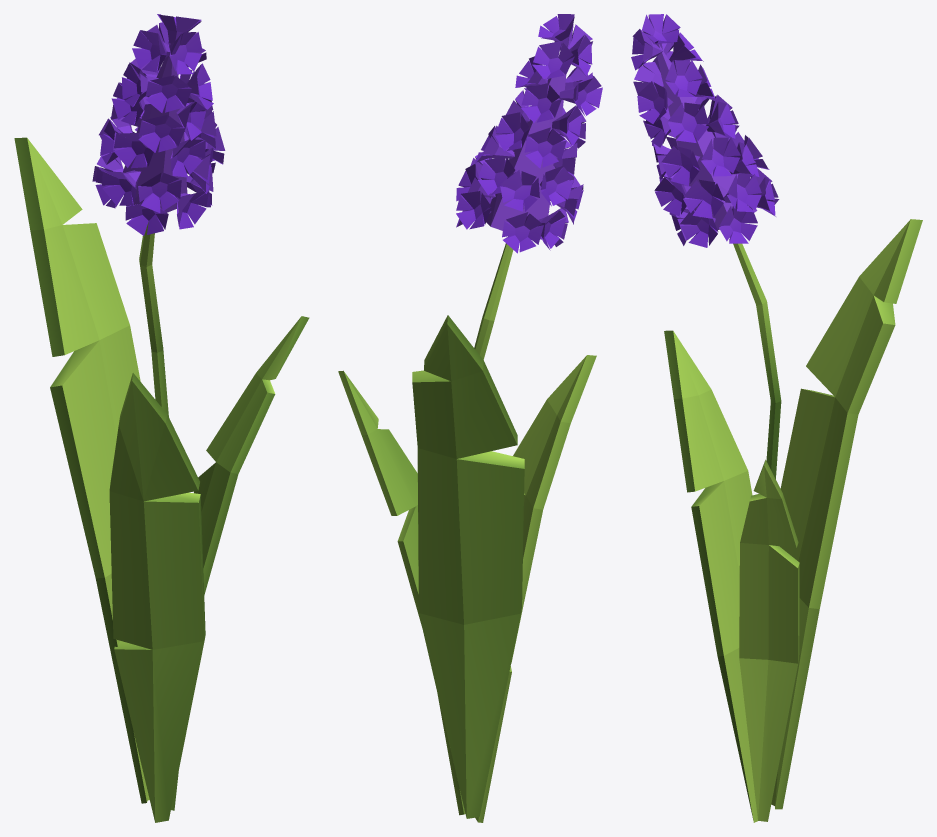
Rendered from Hyacinth.obj.
3 views of the same model, side by side, from view 1: azimuth 30°, elevation 25°; view 2: azimuth 150°, elevation 25°; view 3: azimuth 270°, elevation 25° (orthographic). The views are drawn at different scales.
Parts seen in each view (by area): view 1: PP_Hyacinth_04; view 2: PP_Hyacinth_04; view 3: PP_Hyacinth_04.
Part boxes in pixels (bbox=[...]): PP_Hyacinth_04: bbox=[14, 14, 309, 822]; PP_Hyacinth_04: bbox=[338, 14, 602, 822]; PP_Hyacinth_04: bbox=[631, 14, 922, 822].
Bounding box in the file's own units: 0.1013 × 0.3521 × 0.1184.
Materials: 1 (1 with a texture image).
